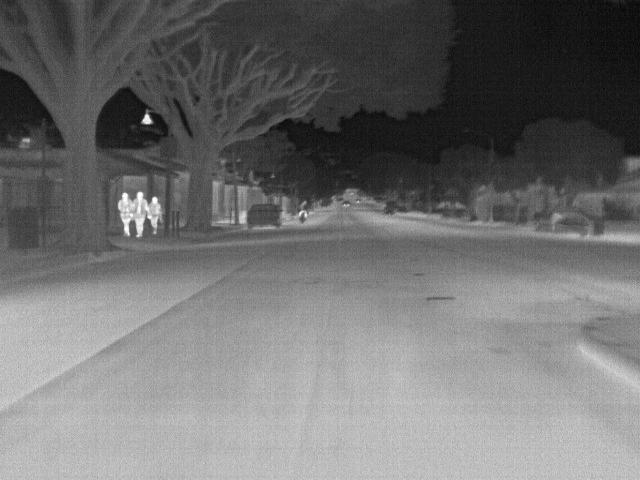car: (531, 205, 591, 237), (247, 204, 284, 232), (352, 196, 362, 205), (342, 200, 353, 208)
person: (132, 188, 150, 237), (148, 194, 164, 234), (120, 191, 133, 238), (298, 199, 311, 212)
